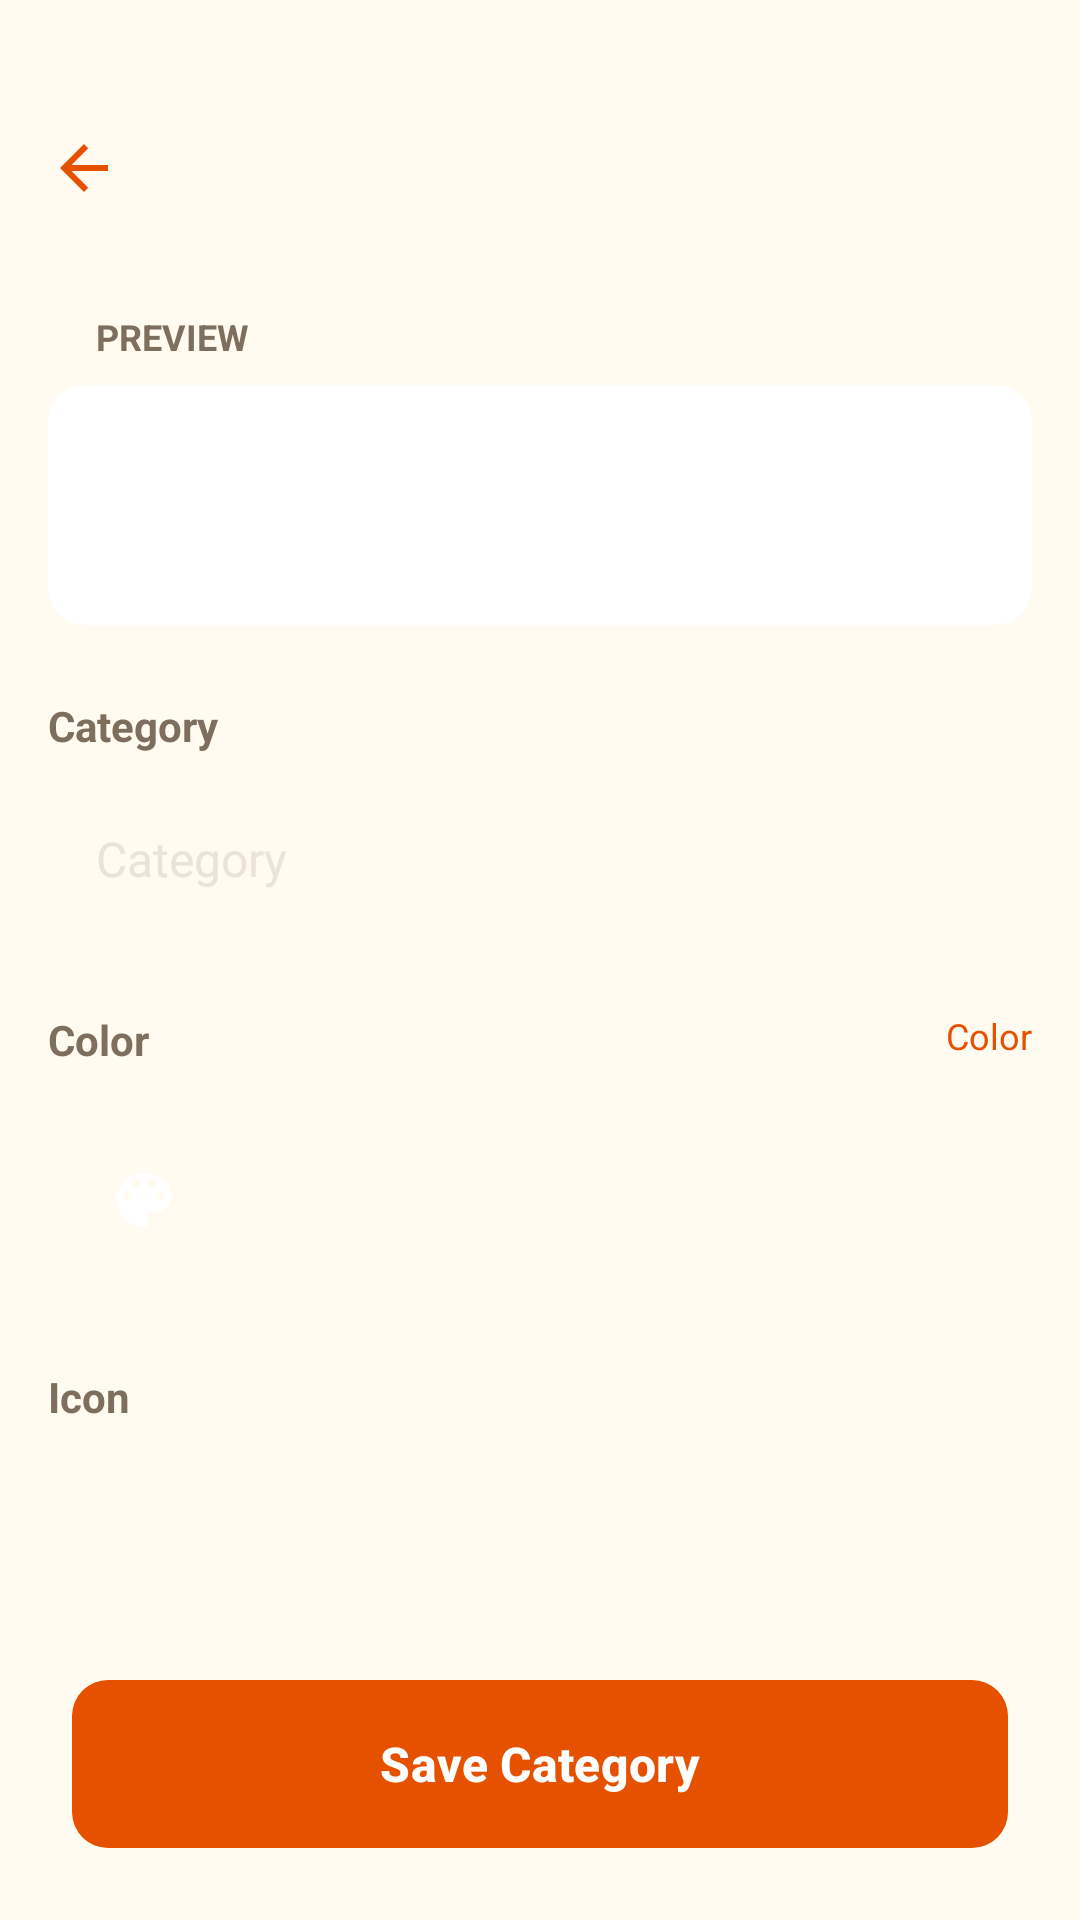

Icon click points for this 1080x1920 phone screenshot, format (x=x, y=y):
Back: (x=84, y=168)
